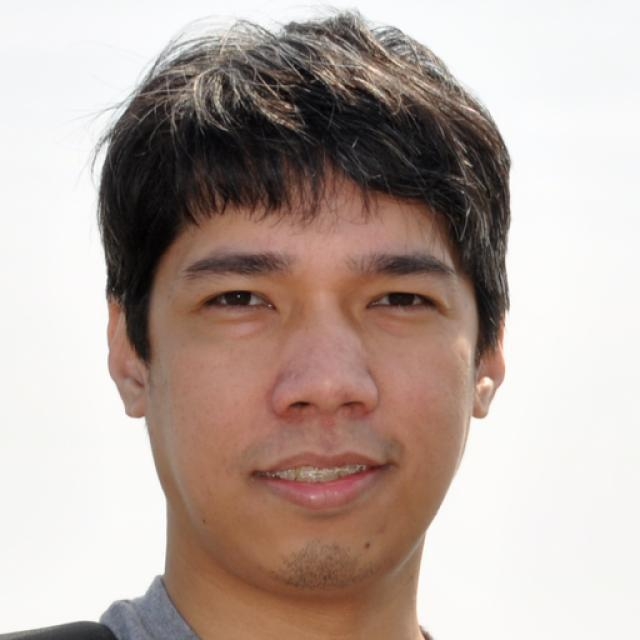content: (152, 166, 476, 586)
